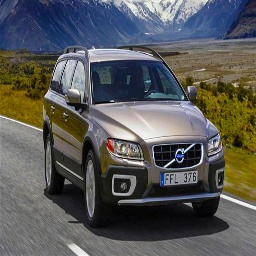sv_licence_plate: (160, 170, 199, 184)
